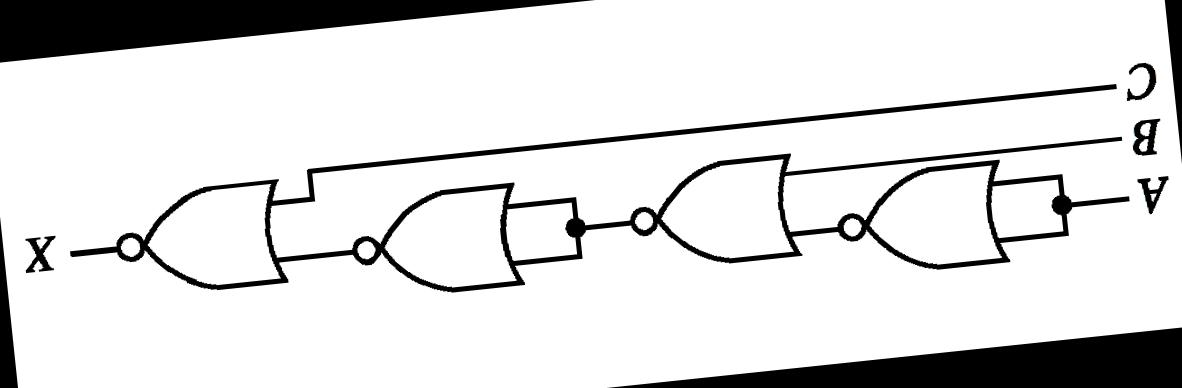nor: (820, 151, 1022, 287), (339, 174, 530, 309), (617, 146, 804, 279), (104, 174, 293, 305)
